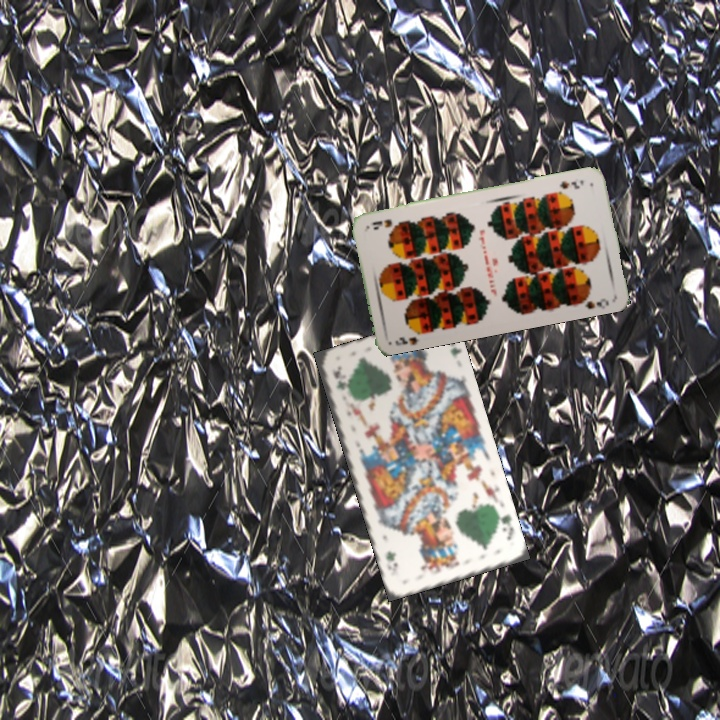GK: (493, 509, 516, 543), (329, 362, 347, 393)
S9: (391, 325, 428, 348), (556, 176, 586, 191)
